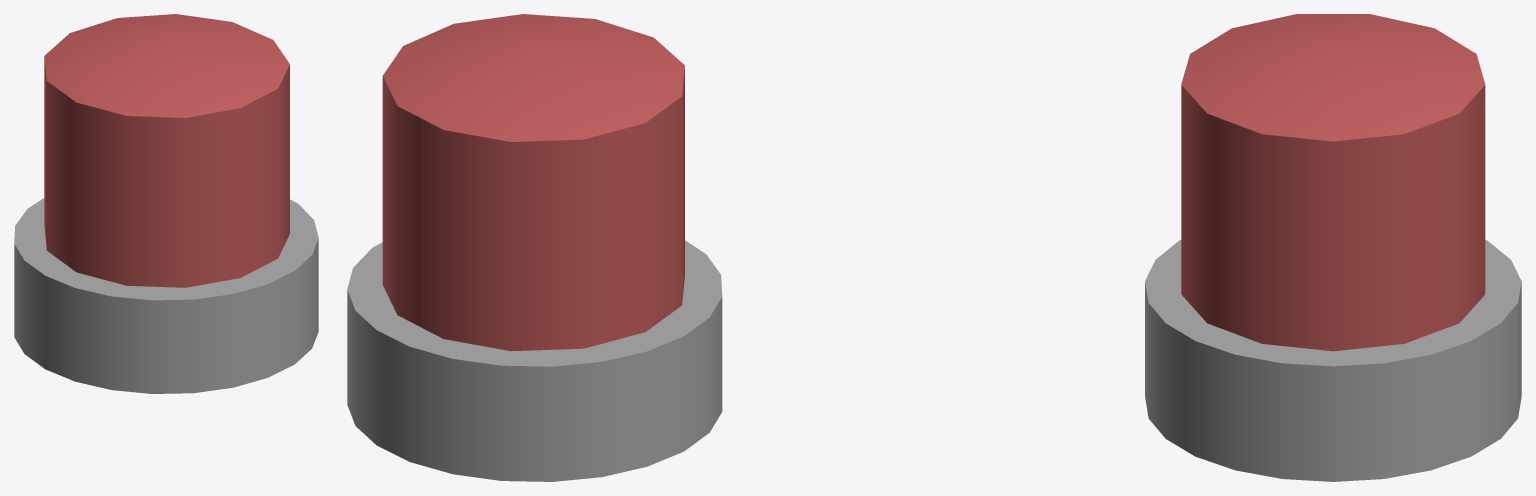
Rendered from RotatingLight.fbx.
3 views of the same model, side by side, from view 1: azimuth 30°, elevation 25°; view 2: azimuth 150°, elevation 25°; view 3: azimuth 270°, elevation 25° (orthographic). The views are drawn at different scales.
Parts seen in each view (by area): view 1: pCylinder5; view 2: pCylinder5; view 3: pCylinder5.
Part boxes in pixels (x1,y1,x2,y2): pCylinder5: (14,14,318,393); pCylinder5: (347,14,722,481); pCylinder5: (1145,14,1521,481).
Size of the model in its own units: 7.6 by 7.9 by 13.05.
